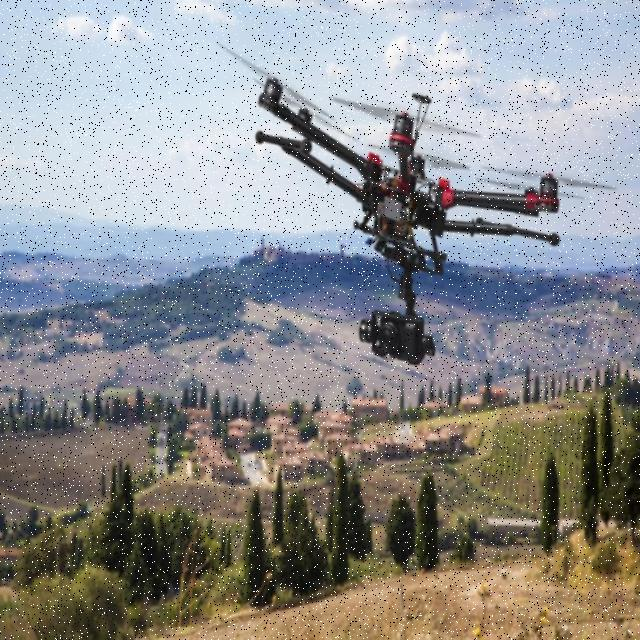UAV: (256, 72, 562, 365)
